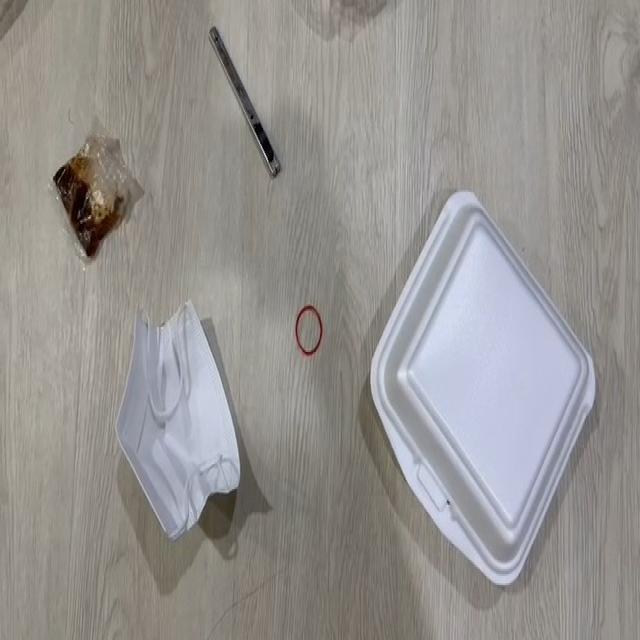Anorganik: (353, 189, 611, 593), (195, 23, 293, 186), (289, 300, 329, 360)
B3: (94, 288, 254, 546), (35, 107, 136, 270)
